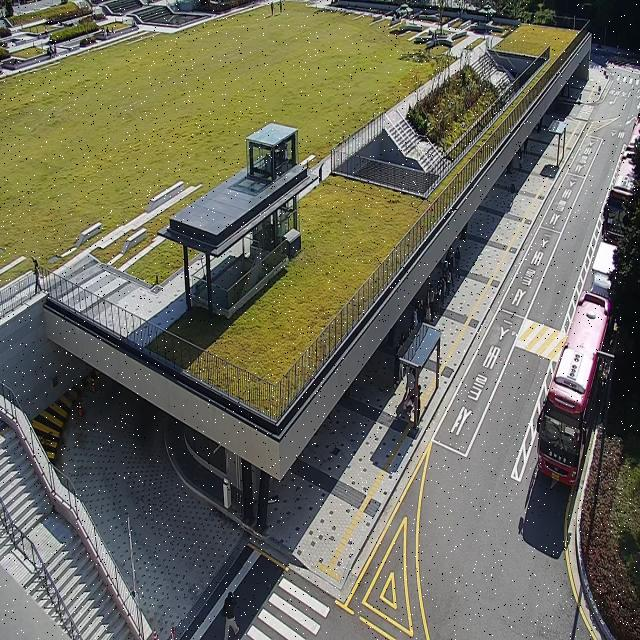queue: (414, 244, 460, 436)
